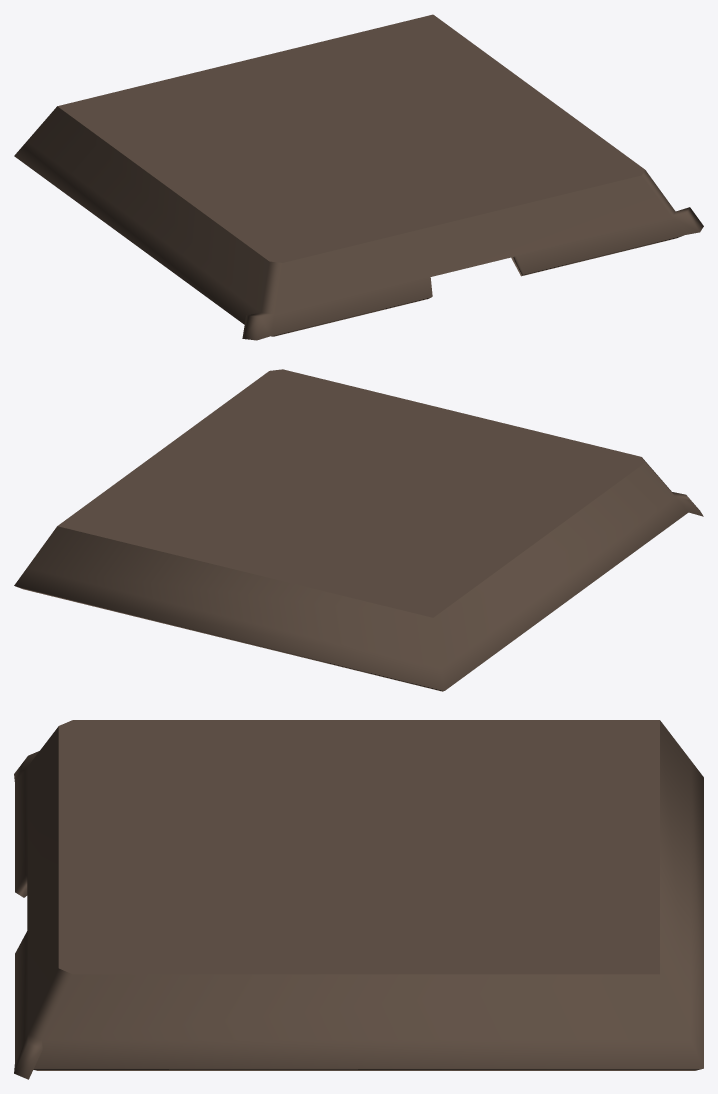
File: Hsp_Lid.fbx
The picture shows the model from 3 angles, top to bottom: view 1: azimuth 30°, elevation 25°; view 2: azimuth 150°, elevation 25°; view 3: azimuth 270°, elevation 25°; orthographic projection. The views are drawn at different scales.
Visible parts, largest first — view 1: HSP_bOX2; view 2: HSP_bOX2; view 3: HSP_bOX2.
Boxes of the visible parts, left/top/right/bottom form: HSP_bOX2: left=14, top=14, right=703, bottom=340; HSP_bOX2: left=14, top=369, right=703, bottom=691; HSP_bOX2: left=14, top=720, right=703, bottom=1079.
Size of the model in its own units: 16.3 by 2 by 15.23.
